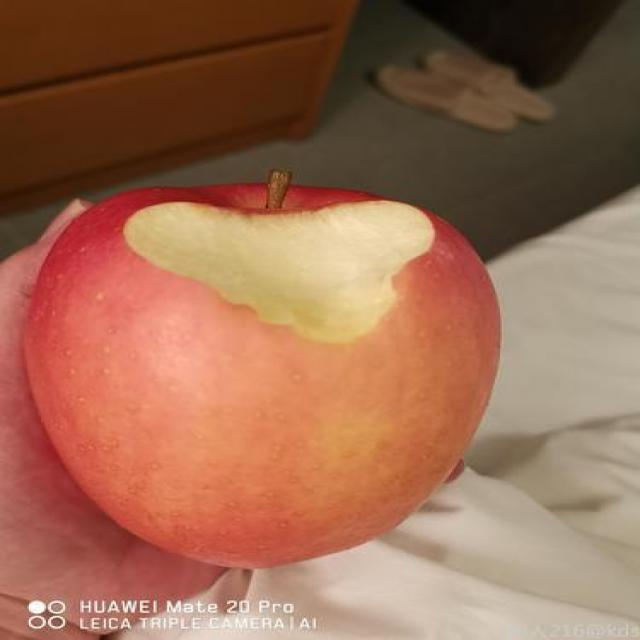Apple: (25, 165, 507, 565)
